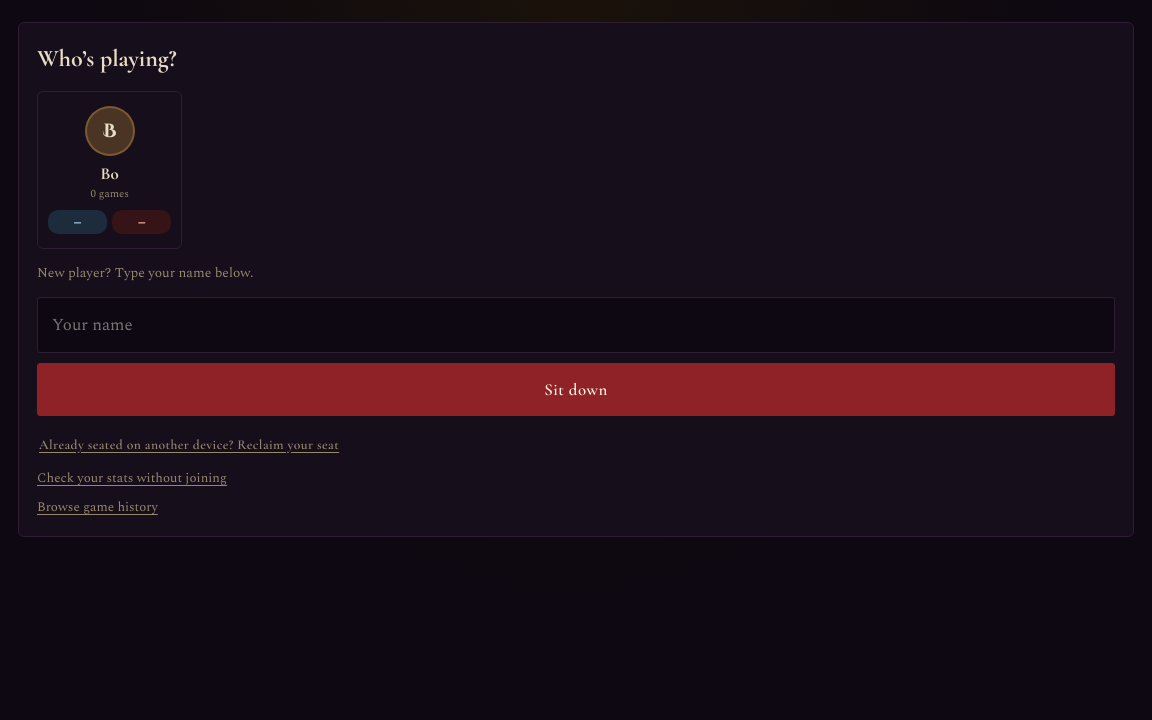
JoinFlow › a network failure on /api/join shows a real message and lets the player retry, instead of failing silently
Click the text "Bo".
click(110, 174)  # box [101,163,119,184]
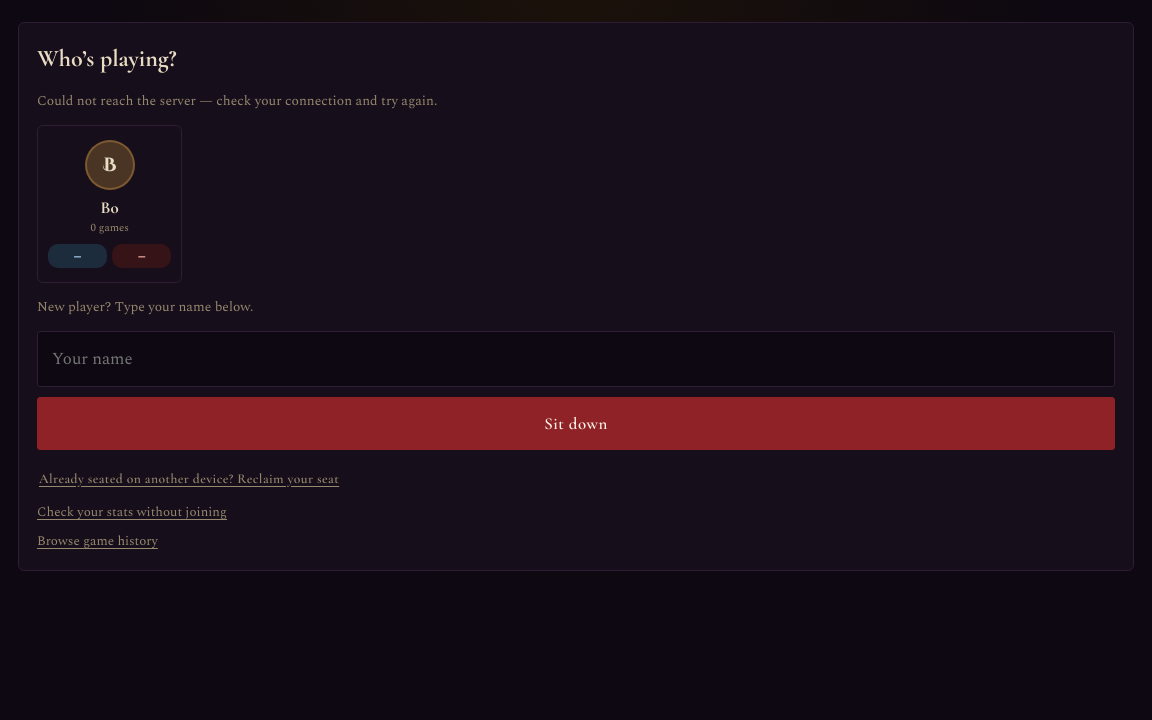
Expected: the heading "Who’s playing?" is shown, [37,44,177,73]
Expected: the text "Could not reach the server" is shown, [37,91,437,111]
